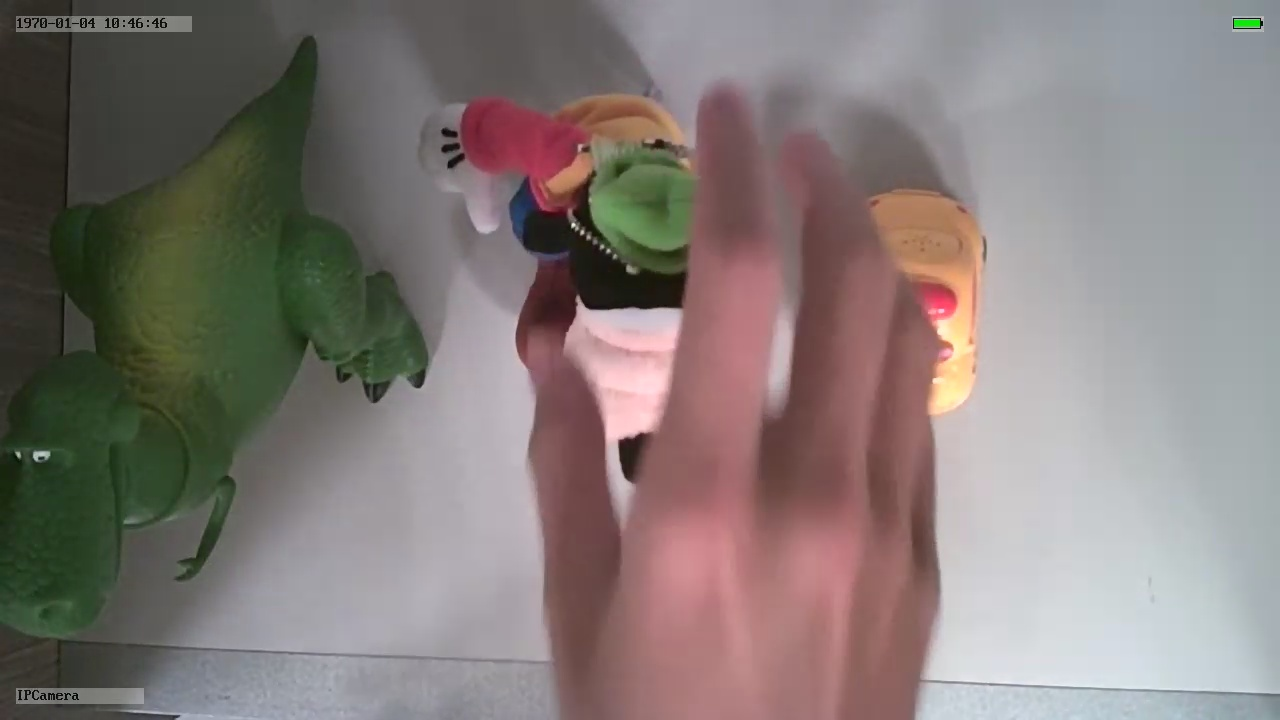rex: (1, 135, 430, 642)
